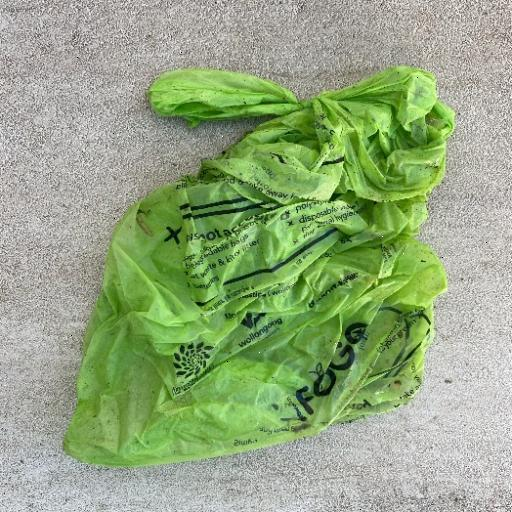Waste: (61, 62, 455, 468)
